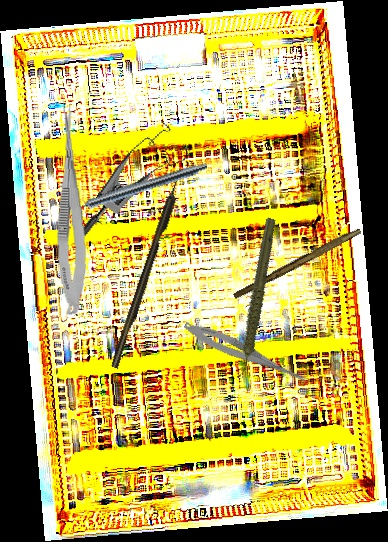Handpiece: (201, 216, 308, 380), (62, 158, 209, 218)
Hook Surgical: (109, 167, 187, 369)
Micro Scissor: (180, 317, 317, 390), (48, 98, 91, 316)
Scalpel Handle: (232, 224, 362, 302)
Speculum: (79, 109, 198, 262)
